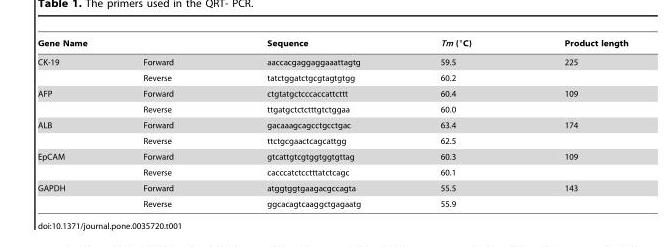table: (37, 37, 627, 208)
table column: (219, 37, 399, 208), (399, 37, 517, 208), (103, 37, 219, 208), (517, 37, 627, 208), (37, 37, 103, 208)
table column header: (37, 37, 627, 69)
table row: (37, 37, 627, 53), (37, 53, 627, 69), (37, 69, 627, 85), (37, 85, 627, 101), (37, 101, 627, 117), (37, 132, 627, 148), (37, 148, 627, 164), (37, 164, 627, 180), (37, 117, 627, 132), (37, 180, 627, 195), (37, 195, 627, 208)
table spanning cell: (219, 37, 399, 69), (399, 37, 517, 69), (517, 37, 627, 69), (37, 37, 219, 53), (37, 85, 103, 117), (37, 148, 103, 180), (37, 117, 103, 148), (37, 180, 103, 208)
